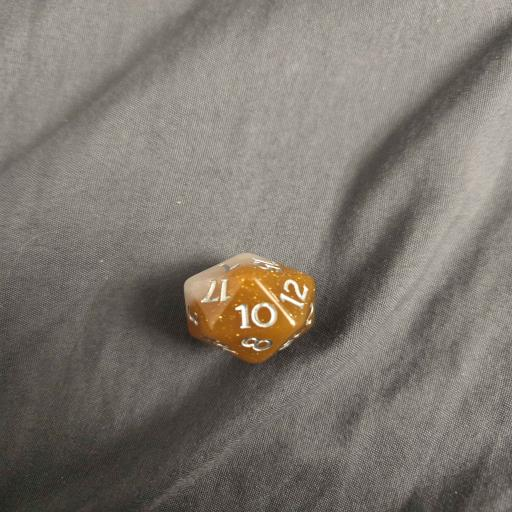twenty sided dice: (184, 252, 316, 363)
